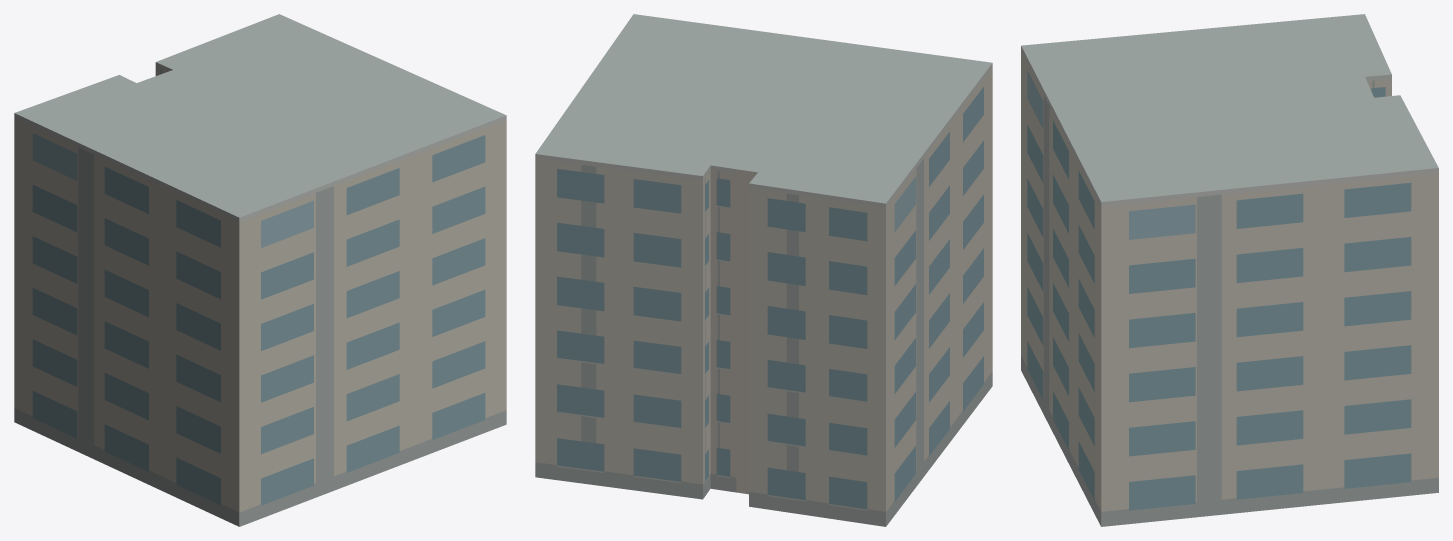
The model's file is survey-upis-33013054.glb.
3 views of the same model, side by side, from view 1: azimuth 30°, elevation 25°; view 2: azimuth 150°, elevation 25°; view 3: azimuth 270°, elevation 25° (orthographic). The views are drawn at different scales.
Visible parts, largest first — view 1: survey-upis-33013054.tmp; view 2: survey-upis-33013054.tmp; view 3: survey-upis-33013054.tmp.
Part boxes in pixels (x1,y1,x2,y2): survey-upis-33013054.tmp: [14, 14, 506, 526]; survey-upis-33013054.tmp: [535, 14, 992, 526]; survey-upis-33013054.tmp: [1021, 14, 1438, 526].
Size of the model in its own units: 21.12 by 17 by 19.82.
